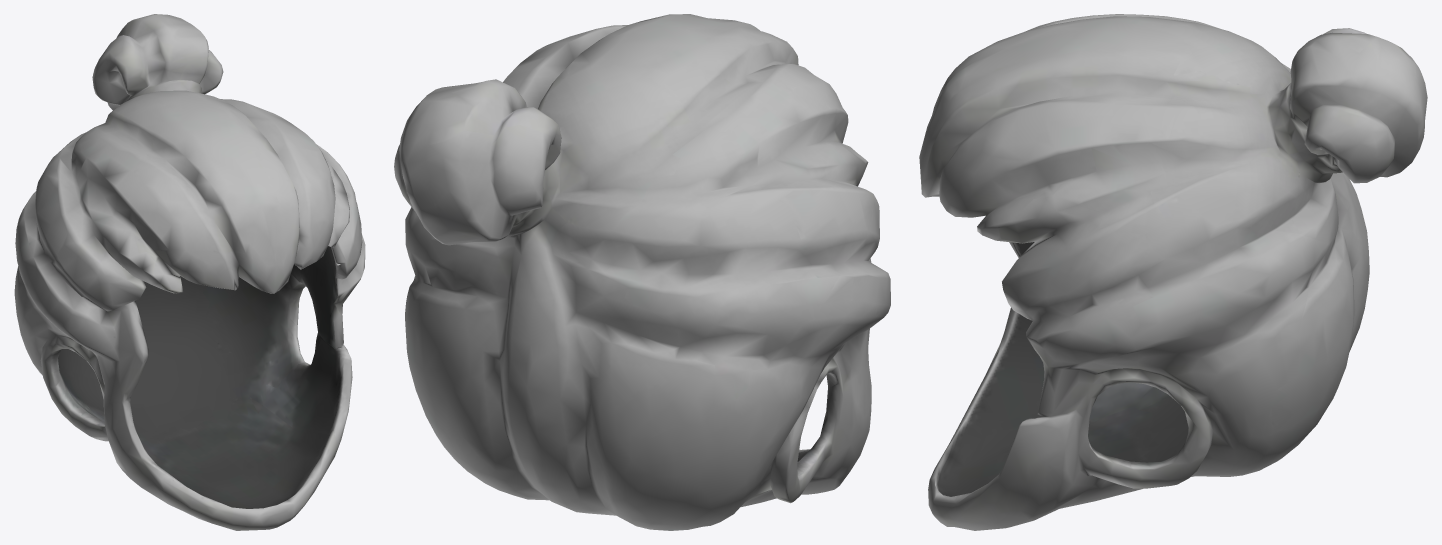
Rendered from hair-bun-low.glb.
3 renders of one model, left to right at view 1: azimuth 30°, elevation 25°; view 2: azimuth 150°, elevation 25°; view 3: azimuth 270°, elevation 25°, orthographic. The views are drawn at different scales.
Parts seen in each view (by area): view 1: hair-bun-low; view 2: hair-bun-low; view 3: hair-bun-low.
Boxes of the visible parts, box(x1,y1,x2,y2) form: hair-bun-low: box(14, 14, 365, 530); hair-bun-low: box(394, 14, 890, 530); hair-bun-low: box(919, 14, 1427, 530).
Size of the model in its own units: 0.855 by 1 by 0.9115.
Materials: 1 (1 with a texture image).
